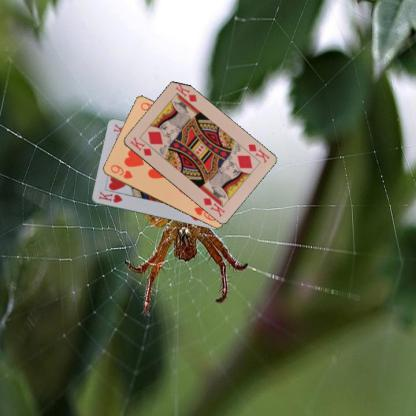9h: (108, 162, 134, 180)
Kd: (127, 134, 153, 157), (245, 142, 271, 165)
Kh: (96, 188, 124, 204)
